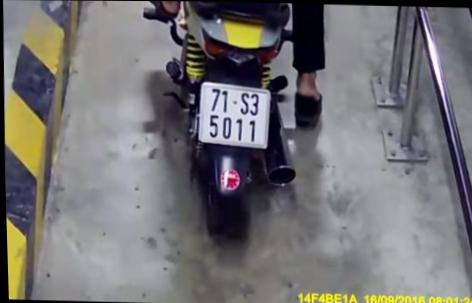LP: (194, 79, 272, 152)
